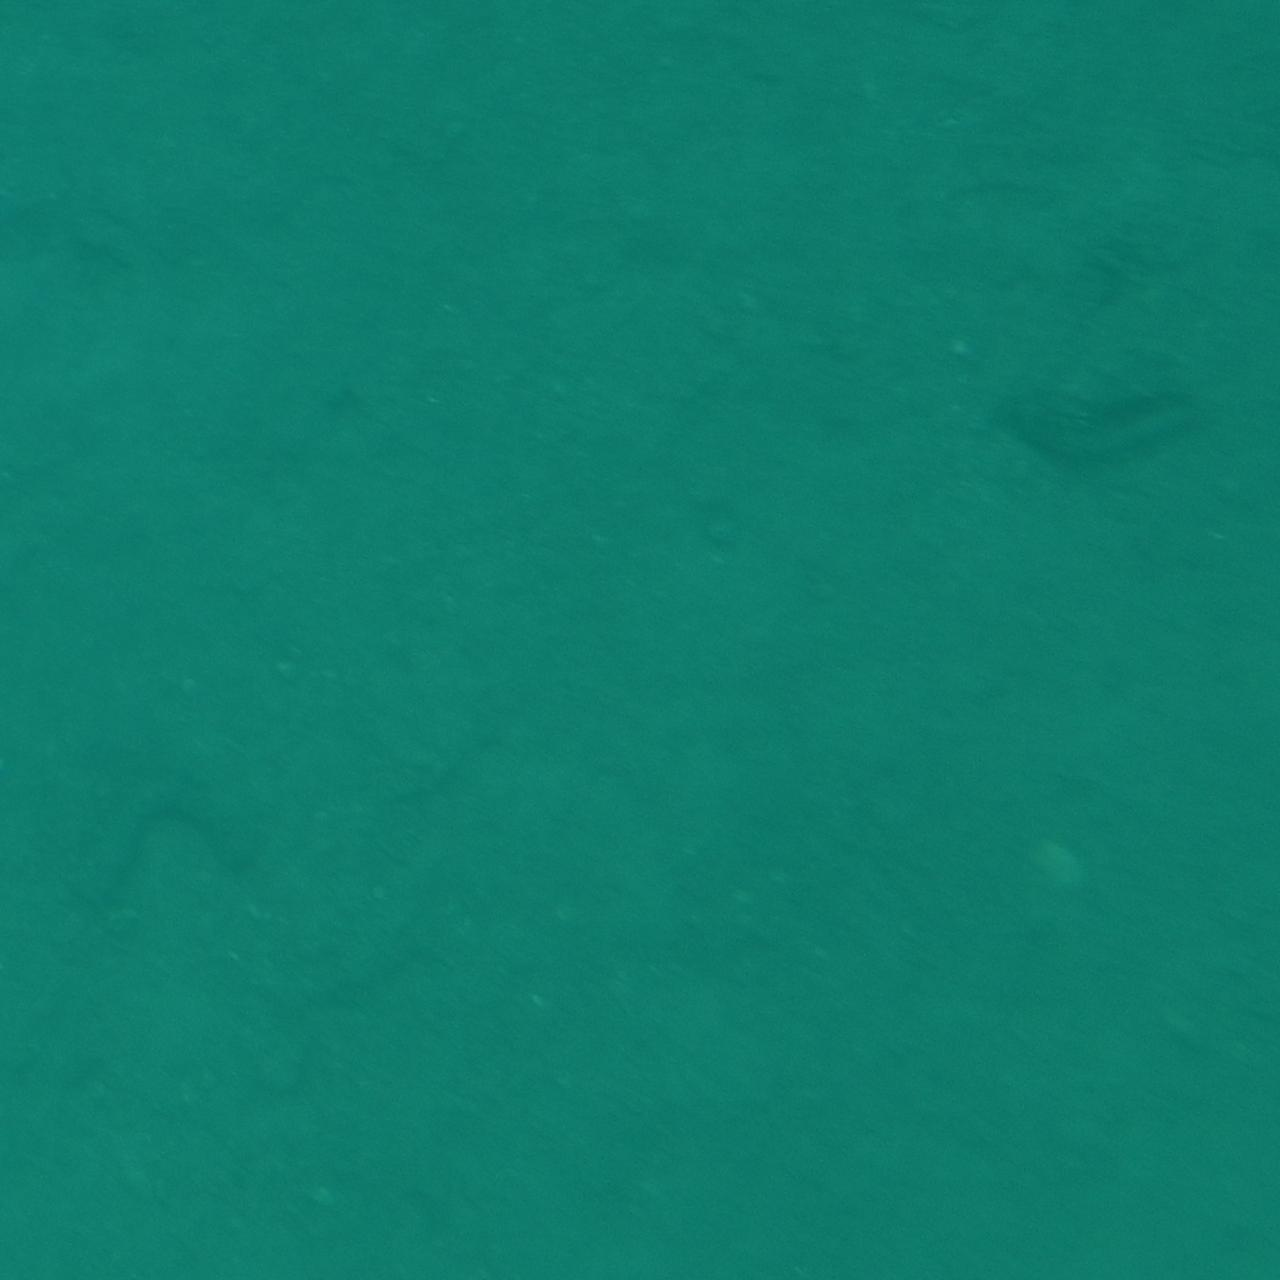Holothuria tubulosa: (55, 774, 295, 924), (969, 370, 1242, 492)
